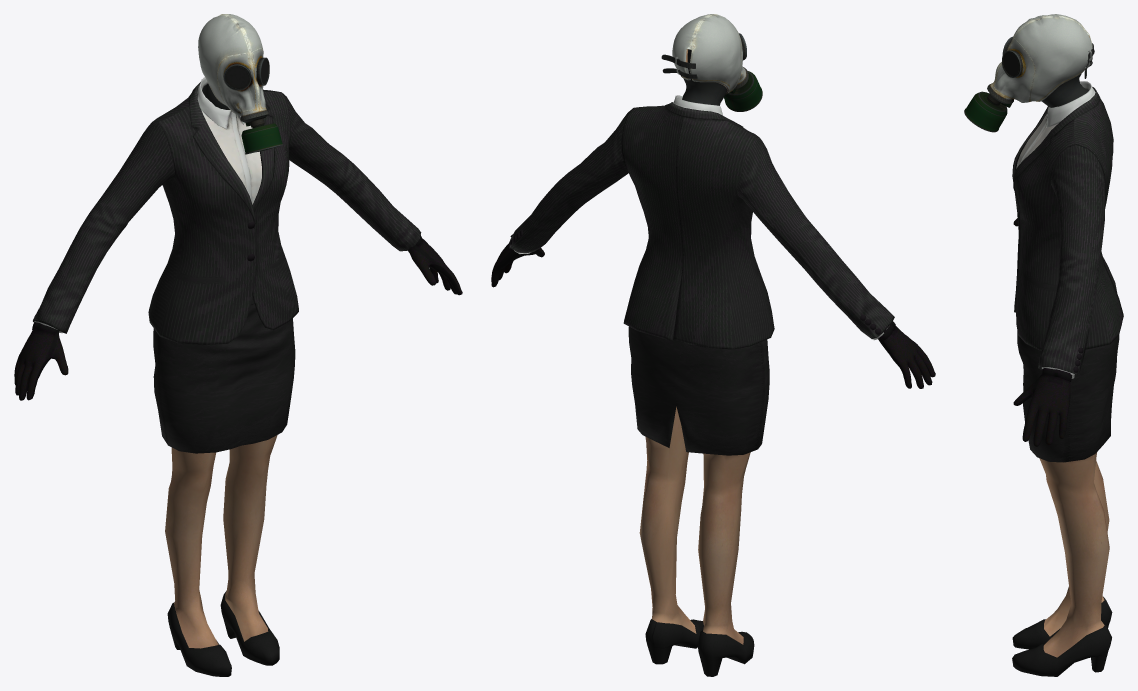
File: gp5woman.glb
3 renders of one model, left to right at view 1: azimuth 30°, elevation 25°; view 2: azimuth 150°, elevation 25°; view 3: azimuth 270°, elevation 25°, orthographic.
Parts seen in each view (by area): view 1: Object_7_Suit_d_0, Object_8_skirt_0, Object_2_Skirt_d_0, mrsfoster.SMD.001, Object_5_Gloves_d_0; view 2: Object_7_Suit_d_0, Object_8_skirt_0, Object_2_Skirt_d_0, mrsfoster.SMD.001, Object_5_Gloves_d_0; view 3: Object_7_Suit_d_0, Object_8_skirt_0, mrsfoster.SMD.001, Object_2_Skirt_d_0, Object_5_Gloves_d_0.
Part boxes in pixels (box(x1,y1,x2,y2)): Object_7_Suit_d_0: box(33, 77, 421, 344); Object_8_skirt_0: box(165, 435, 279, 676); Object_2_Skirt_d_0: box(153, 295, 295, 453); mrsfoster.SMD.001: box(198, 14, 283, 154); Object_5_Gloves_d_0: box(14, 235, 462, 400); Object_7_Suit_d_0: box(509, 95, 894, 349); Object_8_skirt_0: box(639, 406, 754, 676); Object_2_Skirt_d_0: box(628, 326, 769, 455); mrsfoster.SMD.001: box(661, 14, 762, 126); Object_5_Gloves_d_0: box(491, 234, 935, 388); Object_7_Suit_d_0: box(1012, 81, 1123, 378); Object_8_skirt_0: box(1012, 452, 1112, 676); mrsfoster.SMD.001: box(964, 14, 1094, 132); Object_2_Skirt_d_0: box(1017, 331, 1119, 462); Object_5_Gloves_d_0: box(1013, 218, 1071, 446).
Size of the model in its own units: 0.9709 by 1.35 by 0.3052.
5 materials, 5 textured.
